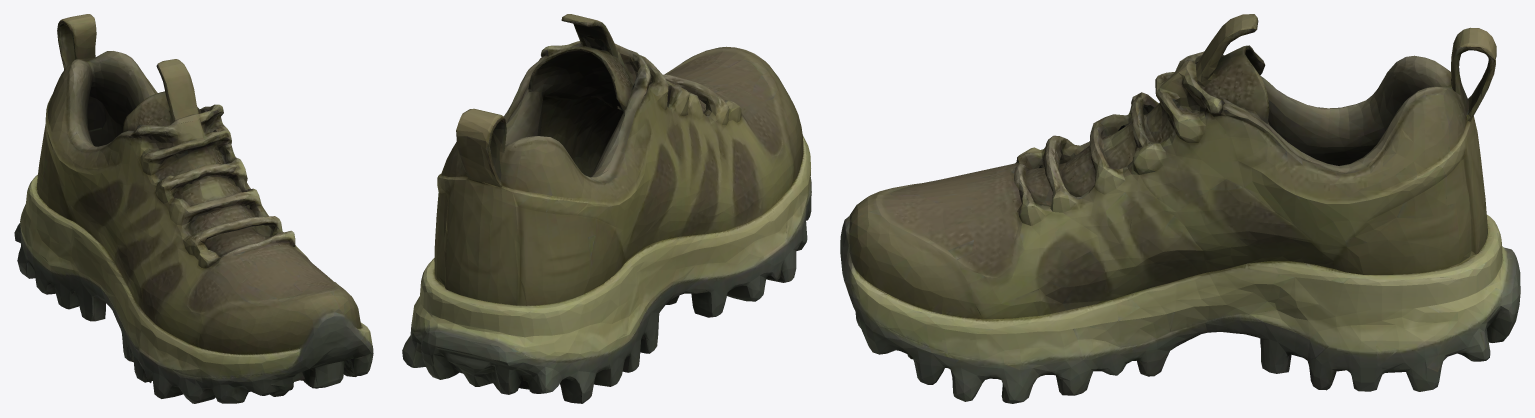
Rendered from trail.glb.
3 renders of one model, left to right at view 1: azimuth 30°, elevation 25°; view 2: azimuth 150°, elevation 25°; view 3: azimuth 270°, elevation 25°, orthographic. The views are drawn at different scales.
Parts seen in each view (by area): view 1: geometry_0; view 2: geometry_0; view 3: geometry_0.
Boxes of the visible parts, bbox=[...] form: geometry_0: bbox=[14, 14, 373, 403]; geometry_0: bbox=[402, 14, 811, 403]; geometry_0: bbox=[840, 14, 1520, 403].
Size of the model in its own units: 0.3834 by 0.5432 by 0.9918.
Materials: 1 (1 with a texture image).
